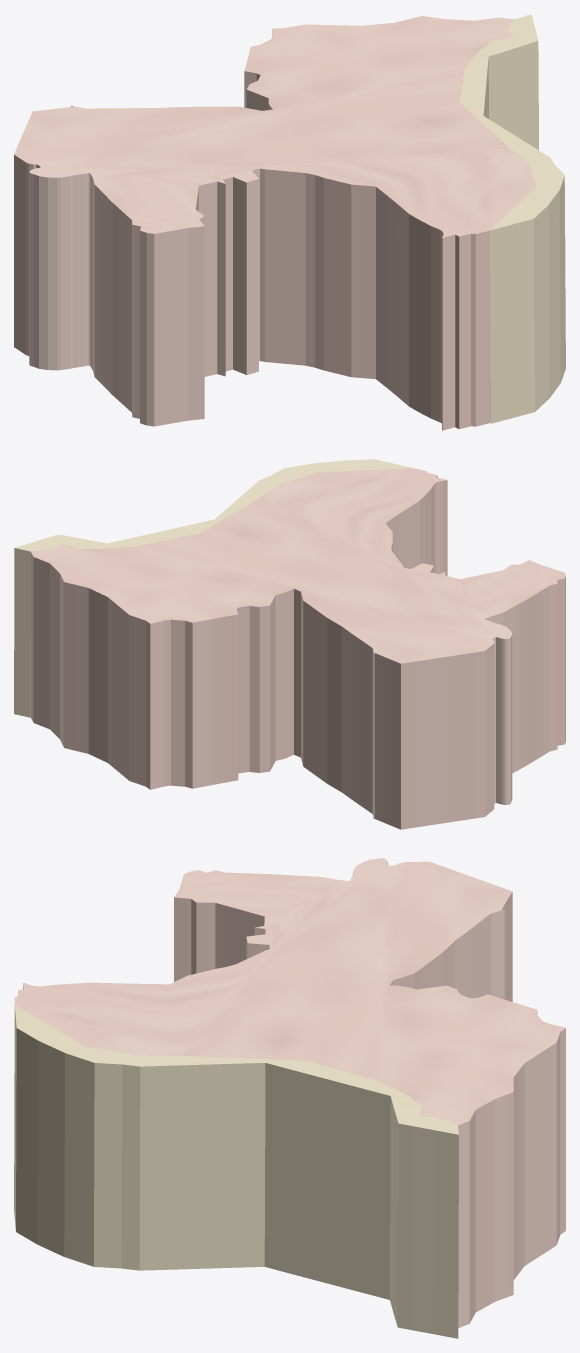
File: old_bridge.glb
3 renders of one model, top to bottom at view 1: azimuth 30°, elevation 25°; view 2: azimuth 150°, elevation 25°; view 3: azimuth 270°, elevation 25°, orthographic. The views are drawn at different scales.
Visible parts, largest first — view 1: Plane.010; view 2: Plane.010; view 3: Plane.010.
Boxes of the visible parts, x1=… form: Plane.010: x1=14, y1=14, x2=565, y2=430; Plane.010: x1=14, y1=459, x2=565, y2=829; Plane.010: x1=14, y1=858, x2=565, y2=1338.
Size of the model in its own units: 1.07 by 0.3673 by 0.9018.
2 materials, 2 textured.
